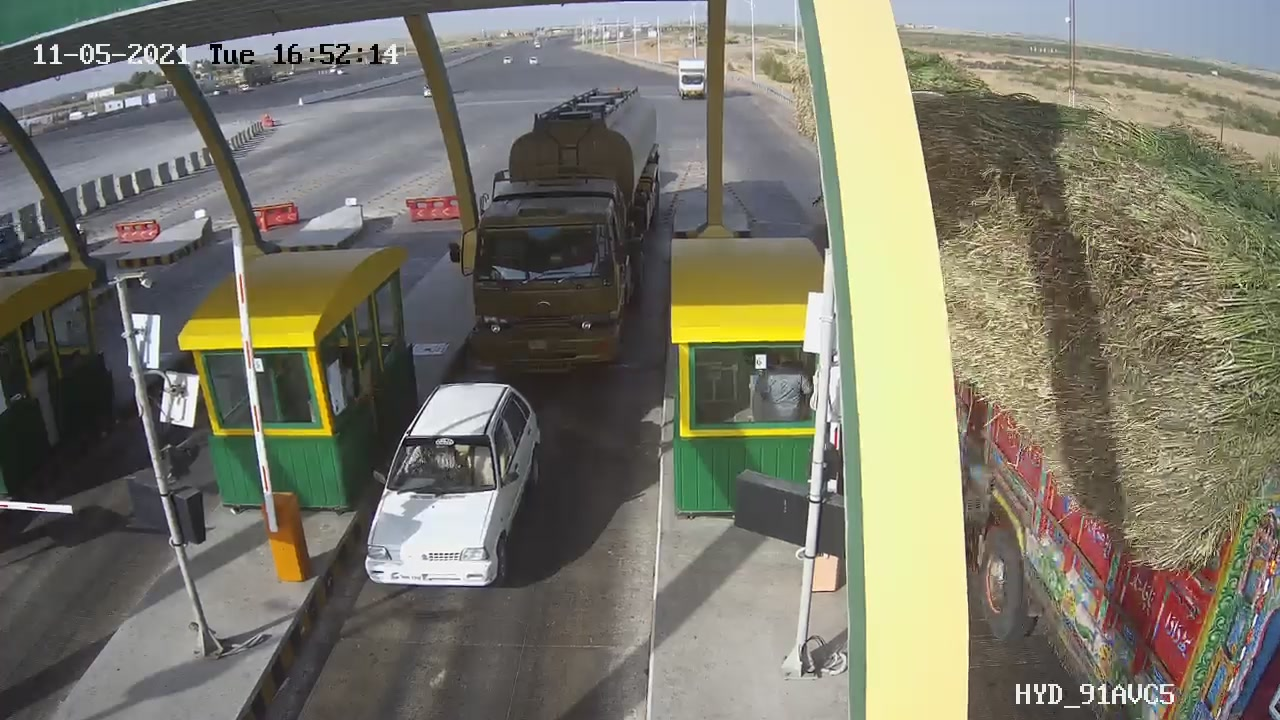F1: (341, 369, 562, 614)
F6: (460, 78, 673, 369)
